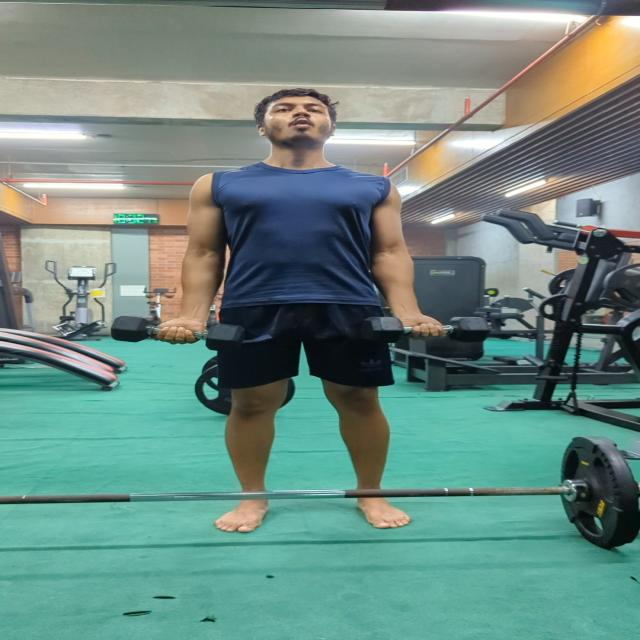Normal_DumbbellBicepCurls: (109, 82, 496, 536)
